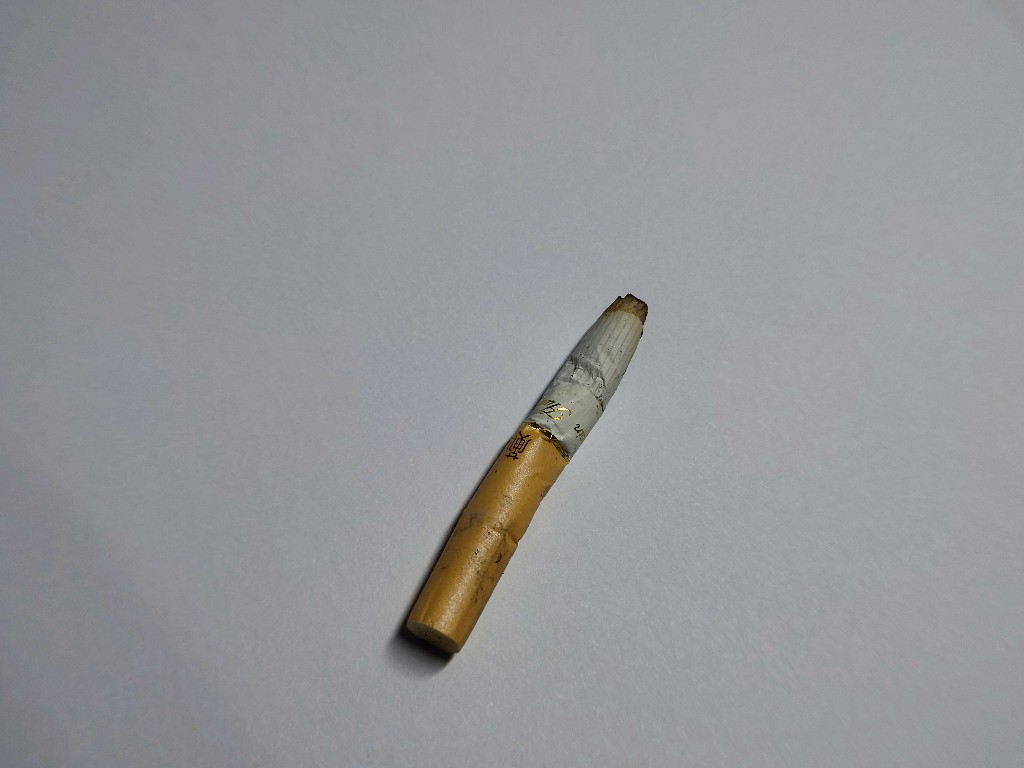cigarette: (389, 281, 656, 674)
